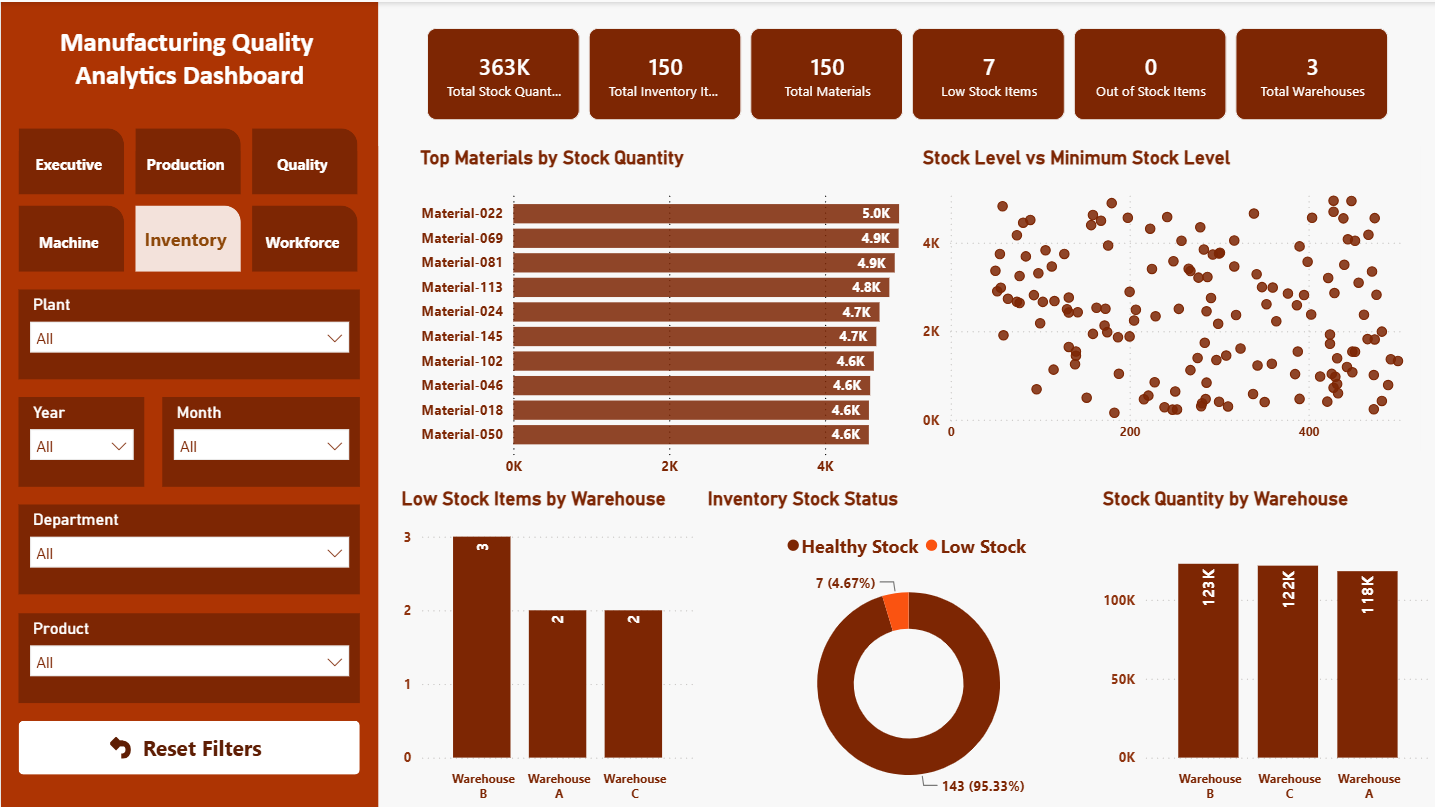

The dashboard page shown, as its layout file describes it:
{"tool":"powerbi","page":{"name":"Inventory","canvas":[1280,720],"ordinal":4},"visuals":[{"type":"group","id":"g1","title":"Sidebar","box":[0,0,336,720],"z":0},{"type":"textbox","box":[0,0,336,720],"z":500,"group":"g1"},{"type":"cardVisual","fields":{"Data":["Metrics.Total Stock Quantity","Metrics.Total Inventory Items","Metrics.Total Materials","Metrics.Low Stock Items","Metrics.Out of Stock Items","Metrics.Total Warehouses"]},"box":[336,0,944,128],"z":1000},{"type":"slicer","fields":{"Values":["Date.Month"]},"box":[144,352,176,80],"z":1000,"group":"g1"},{"type":"slicer","fields":{"Values":["Date.Year"]},"box":[16,352,112,80],"z":2000,"group":"g1"},{"type":"clusteredColumnChart","title":"Low Stock Items by Warehouse","fields":{"Category":["Inventory.warehouse_location"],"Y":["Metrics.Low Stock Items"]},"box":[352,432,272,288],"z":3000},{"type":"slicer","title":"Plant","fields":{"Values":["Plant.plant_name"]},"box":[16,256,304,80],"z":4000,"group":"g1"},{"type":"donutChart","title":"Inventory Stock Status","fields":{"Category":["Inventory.Inventory Status"],"Y":["Metrics.Total Inventory Items"]},"box":[624,432,368,288],"z":4000},{"type":"clusteredColumnChart","title":"Stock Quantity by Warehouse","fields":{"Category":["Inventory.warehouse_location"],"Y":["Metrics.Total Stock Quantity"]},"box":[976,432,304,288],"z":4500},{"type":"clusteredBarChart","title":"Top Materials by Stock Quantity","fields":{"Y":["Metrics.Total Stock Quantity"],"Category":["Inventory.Material Display Name"]},"box":[368,128,448,304],"z":5000},{"type":"scatterChart","title":"Stock Level vs Minimum Stock Level","fields":{"X":["Metrics.Average Minimum Stock Level"],"Y":["Metrics.Average Available Stock"],"Category":["Inventory.material_id"]},"box":[816,128,448,272],"z":6000},{"type":"pageNavigator","box":[16,112,304,128],"z":9000},{"type":"slicer","title":"Plant","fields":{"Values":["Department.department_name"]},"box":[16,448,304,80],"z":10000,"group":"g1"},{"type":"slicer","title":"Plant","fields":{"Values":["Product.product_name"]},"box":[16,544,304,80],"z":11000,"group":"g1"},{"type":"actionButton","box":[16,640,304,48],"z":12000,"group":"g1"}]}

Visuals, with their boxes in screenshot pixels (x1, y1, x2, y2), scaled from the page's 1280x720 canvas onto the 1435x807 screenshot:
"Sidebar" group: 0, 0, 377, 806
textbox: 0, 0, 377, 806
cardVisual - Metrics.Total Stock Quantity x Metrics.Total Inventory Items: 377, 0, 1434, 143
slicer - Date.Month: 161, 395, 359, 484
slicer - Date.Year: 18, 395, 144, 484
"Low Stock Items by Warehouse" clusteredColumnChart: 395, 484, 700, 806
"Plant" slicer: 18, 287, 359, 377
"Inventory Stock Status" donutChart: 700, 484, 1112, 806
"Stock Quantity by Warehouse" clusteredColumnChart: 1094, 484, 1434, 806
"Top Materials by Stock Quantity" clusteredBarChart: 413, 143, 915, 484
"Stock Level vs Minimum Stock Level" scatterChart: 915, 143, 1417, 448
pageNavigator: 18, 126, 359, 269
"Plant" slicer: 18, 502, 359, 592
"Plant" slicer: 18, 610, 359, 699
actionButton: 18, 717, 359, 771
